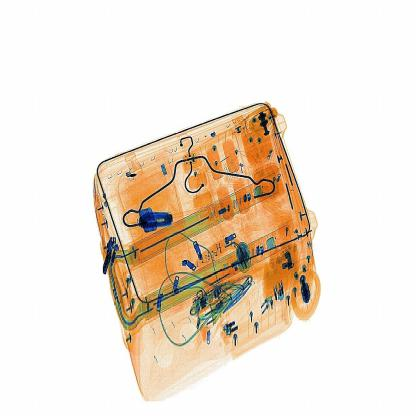scissors: (140, 210, 178, 231)
